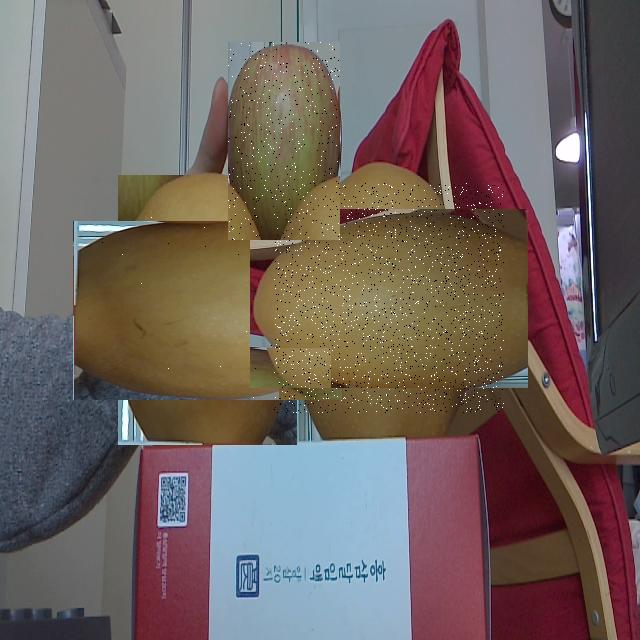apple: (228, 42, 340, 240)
pear: (274, 183, 504, 413), (95, 198, 320, 423)
